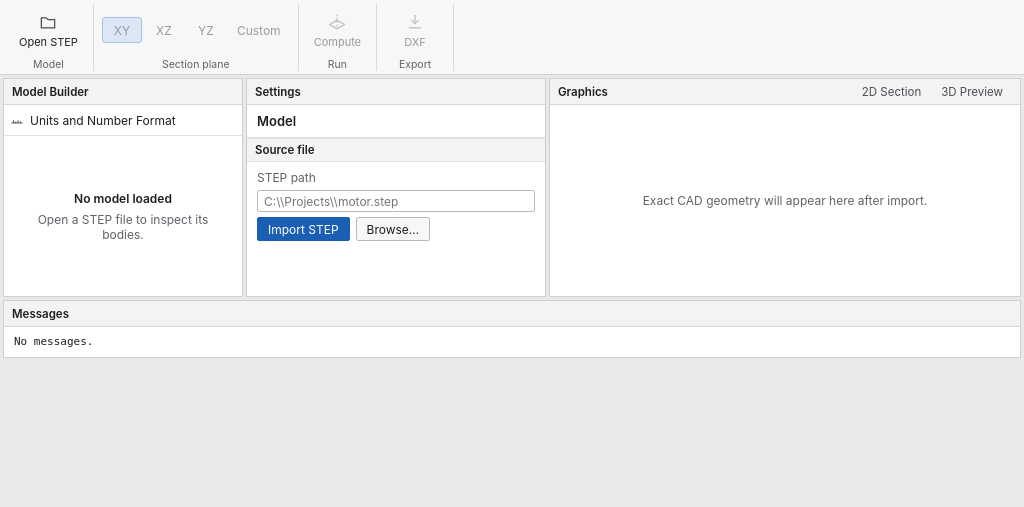
Scenario: STEP workspace › shows imported components and selected source details
In the field labelled "STEP path": (396, 201) [257,190,535,212], type "C:/motor.step"
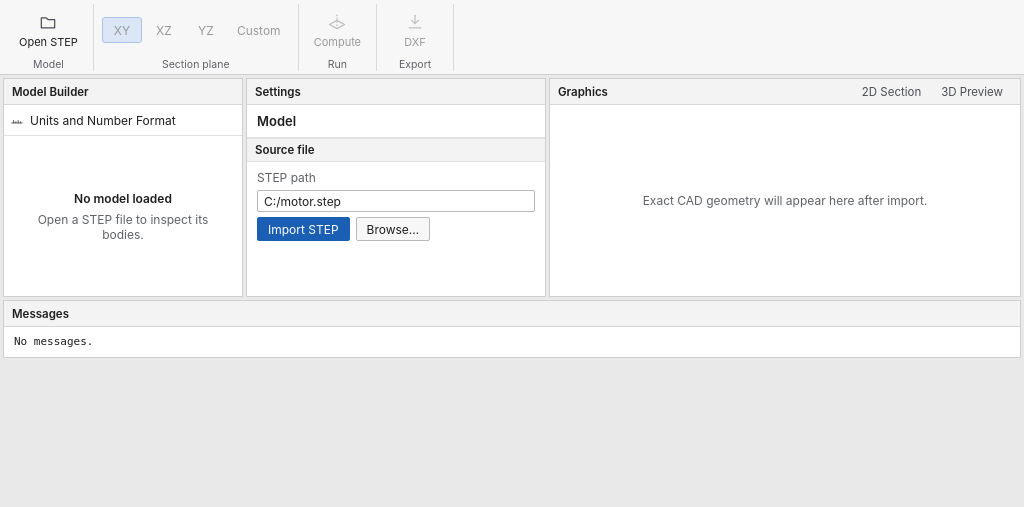
Click the button "Import STEP": click(303, 229) [257,217,350,241]
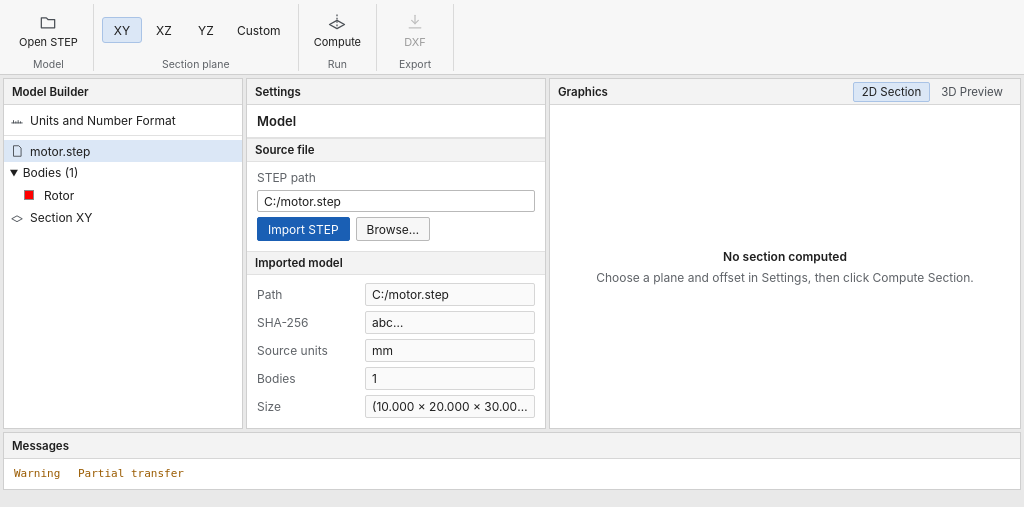
expect the button "Rotor" is shown: met
Click the button "Rotor": click(130, 195) [18,184,242,206]
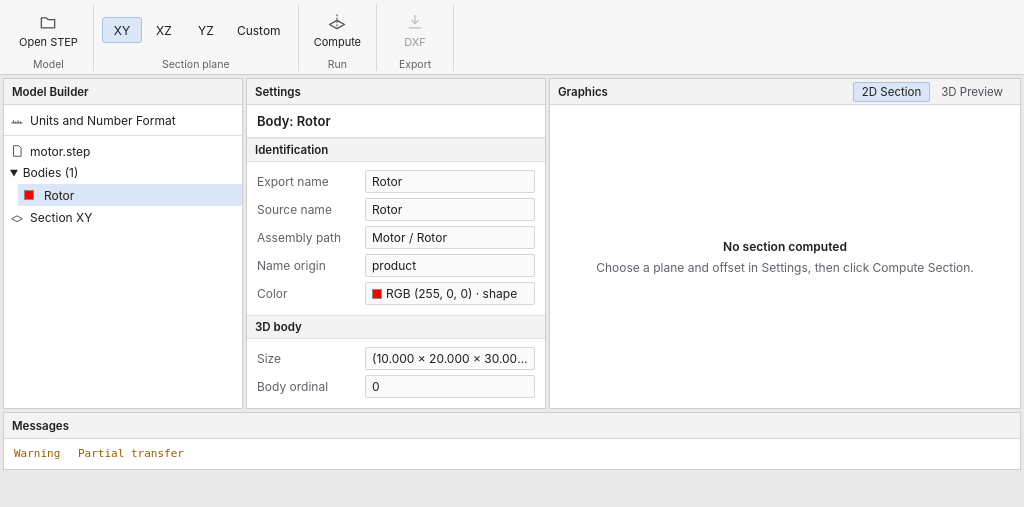
expect the text "Partial transfer" is shown: met, box [78,447,184,460]
expect the text "Body: Rotor" is shown: met, box [257,113,331,129]
expect the text "Rotor" is shown 2 times: met, box [365,170,535,193]; [365,198,535,221]
